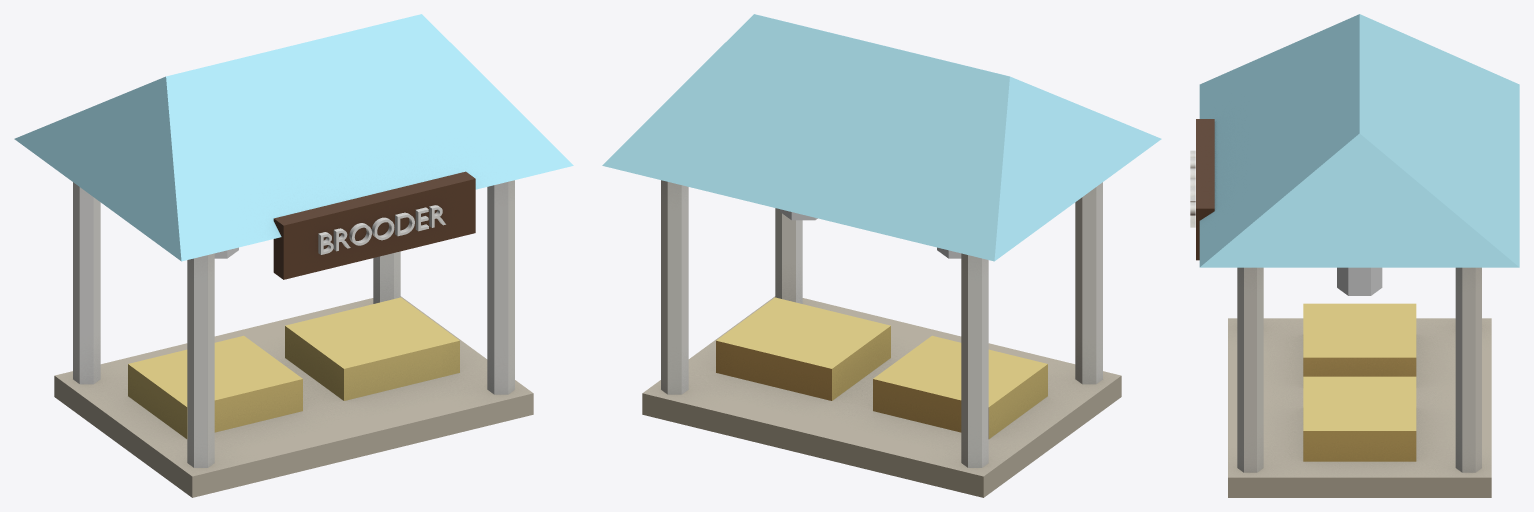
The model's file is home_brooder_1.fbx.
The picture shows the model from 3 angles, left to right: view 1: azimuth 30°, elevation 25°; view 2: azimuth 150°, elevation 25°; view 3: azimuth 270°, elevation 25°; orthographic projection. The views are drawn at different scales.
Visible parts, largest first — view 1: home_brooder_1_body; view 2: home_brooder_1_body; view 3: home_brooder_1_body, home_brooder_1_body_glow.
Part boxes in pixels (x1,y1,x2,y2): home_brooder_1_body: (14,14,573,497); home_brooder_1_body: (602,14,1161,497); home_brooder_1_body: (1190,14,1519,497); home_brooder_1_body_glow: (1337,267,1382,295).
Size of the model in its own units: 1150 by 1010 by 875.
Materials: 2 (1 with a texture image).
